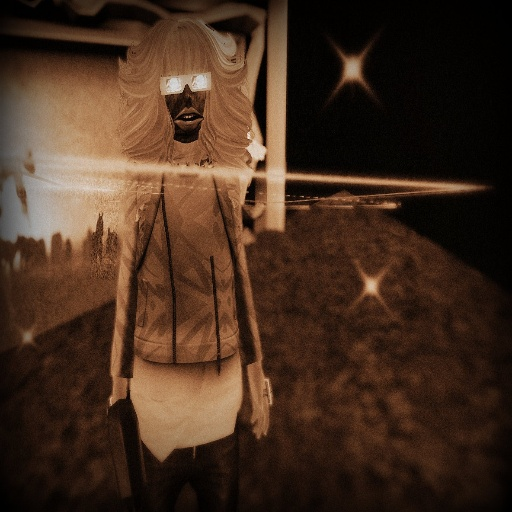hand: (243, 354, 272, 446)
